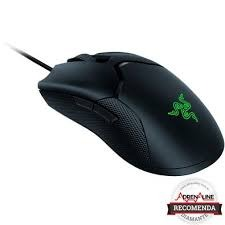mouse: (37, 47, 223, 178)
